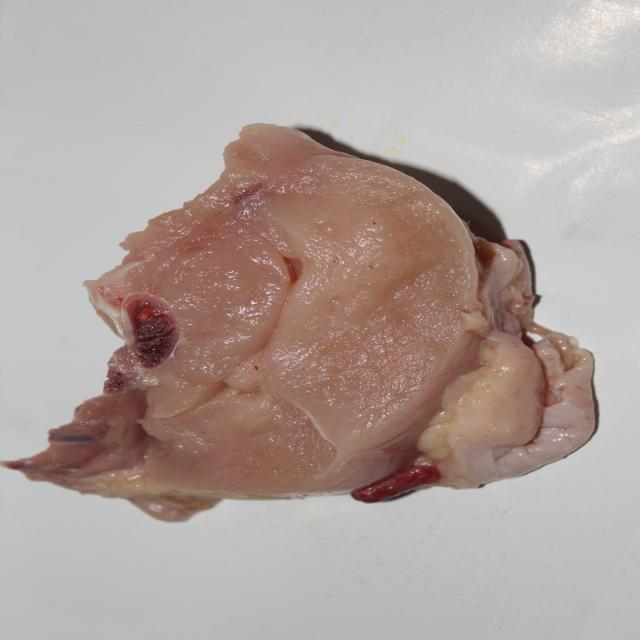chicken: (21, 130, 598, 496)
